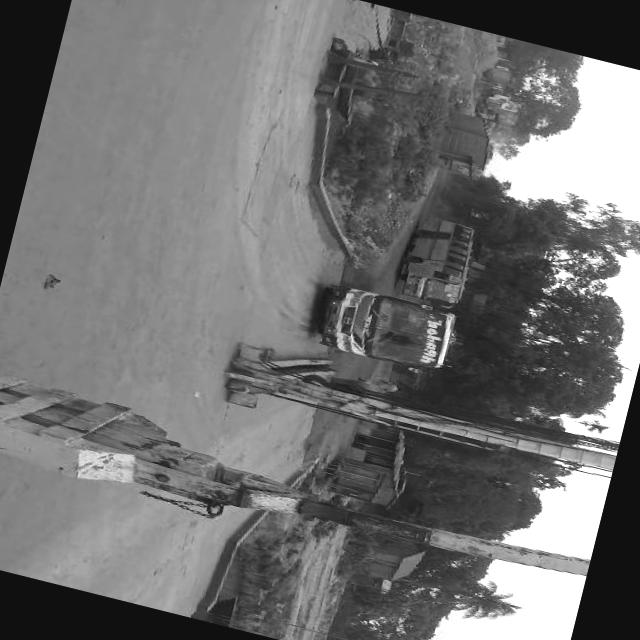bus: (314, 282, 462, 376), (396, 210, 479, 308)
truck: (472, 104, 502, 128)
